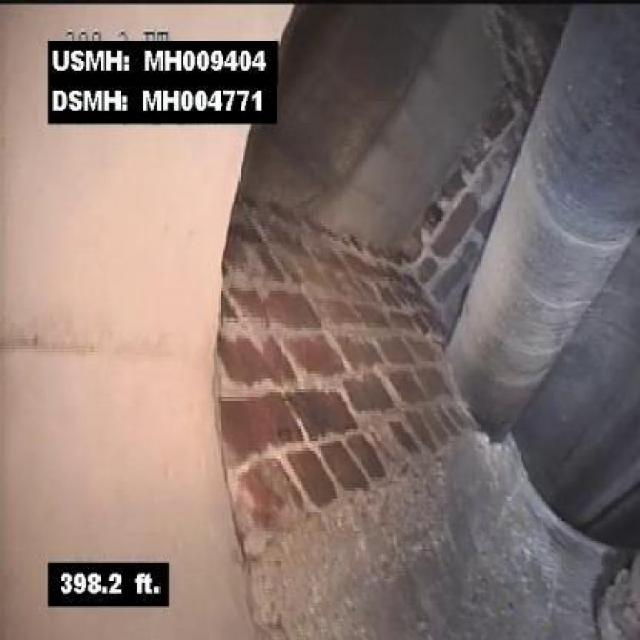Utility intrusion: (450, 0, 638, 440)
